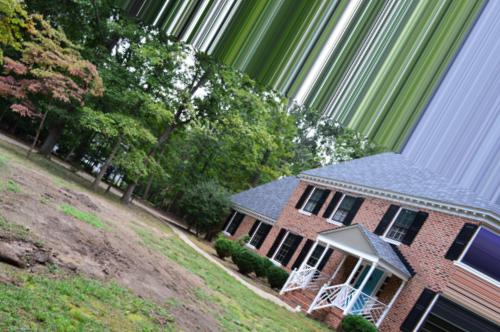patch: (119, 247, 167, 289), (50, 217, 97, 259), (20, 203, 45, 231), (121, 219, 136, 239)
